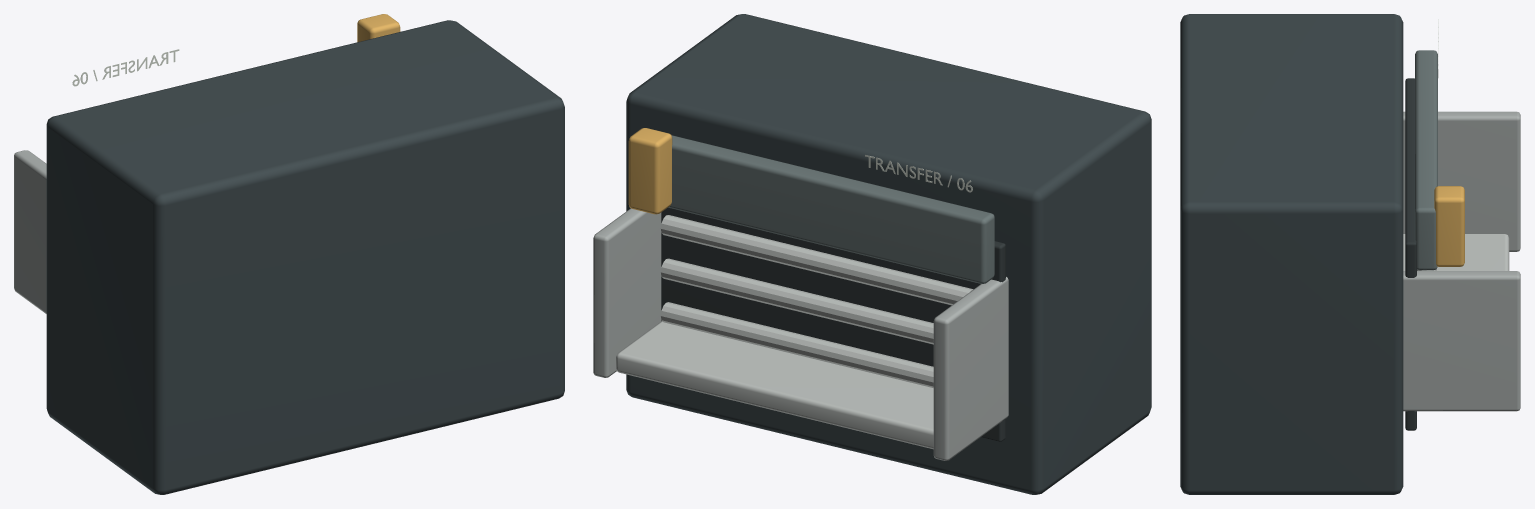
File: transfer_hatch.glb
The picture shows the model from 3 angles, left to right: view 1: azimuth 30°, elevation 25°; view 2: azimuth 150°, elevation 25°; view 3: azimuth 270°, elevation 25°; orthographic projection. The views are drawn at different scales.
Visible parts, largest first — view 1: VIS_transfer_hatch_housing, VIS_transfer_hatch_rail_-0.49, VIS_transfer_hatch_Latch, VIS_transfer_hatch_id; view 2: VIS_transfer_hatch_housing, VIS_transfer_hatch_HatchLeaf, VIS_transfer_hatch_tray, VIS_transfer_hatch_mouth_recess, VIS_transfer_hatch_rail_-0.49, VIS_transfer_hatch_rail_0.49, VIS_transfer_hatch_roller_0.12, VIS_transfer_hatch_roller_-0.12, VIS_transfer_hatch_roller_0, VIS_transfer_hatch_Latch, VIS_transfer_hatch_id; view 3: VIS_transfer_hatch_housing, VIS_transfer_hatch_rail_0.49, VIS_transfer_hatch_rail_-0.49, VIS_transfer_hatch_HatchLeaf, VIS_transfer_hatch_Latch, VIS_transfer_hatch_mouth_recess, VIS_transfer_hatch_tray.
Part boxes in pixels (box(x1,y1,x2,y2)): VIS_transfer_hatch_housing: box(46, 20, 564, 494); VIS_transfer_hatch_rail_-0.49: box(14, 150, 46, 313); VIS_transfer_hatch_Latch: box(357, 14, 400, 42); VIS_transfer_hatch_id: box(72, 49, 179, 86); VIS_transfer_hatch_housing: box(626, 14, 1151, 494); VIS_transfer_hatch_HatchLeaf: box(668, 135, 994, 283); VIS_transfer_hatch_tray: box(616, 321, 933, 449); VIS_transfer_hatch_mouth_recess: box(661, 207, 1005, 441); VIS_transfer_hatch_rail_-0.49: box(933, 277, 1008, 460); VIS_transfer_hatch_rail_0.49: box(593, 208, 661, 377); VIS_transfer_hatch_roller_0.12: box(660, 215, 973, 305); VIS_transfer_hatch_roller_-0.12: box(661, 302, 933, 387); VIS_transfer_hatch_roller_0: box(660, 258, 933, 344); VIS_transfer_hatch_Latch: box(628, 128, 672, 214); VIS_transfer_hatch_id: box(865, 155, 972, 192); VIS_transfer_hatch_housing: box(1180, 14, 1403, 494); VIS_transfer_hatch_rail_0.49: box(1403, 271, 1520, 411); VIS_transfer_hatch_rail_-0.49: box(1403, 111, 1520, 251); VIS_transfer_hatch_HatchLeaf: box(1415, 50, 1437, 270); VIS_transfer_hatch_Latch: box(1434, 186, 1464, 266); VIS_transfer_hatch_mouth_recess: box(1405, 78, 1416, 430); VIS_transfer_hatch_tray: box(1403, 234, 1509, 270).
Size of the model in its own units: 1.2 by 0.8832 by 0.885.
